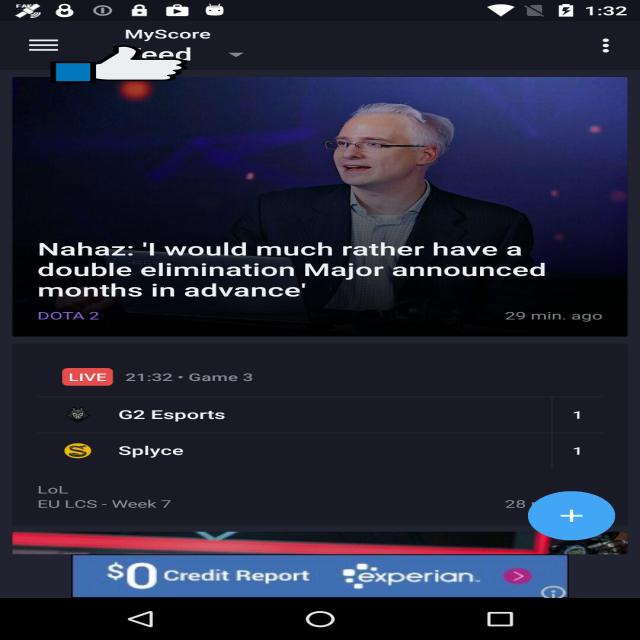privacy zuckering: (51, 44, 188, 84)
